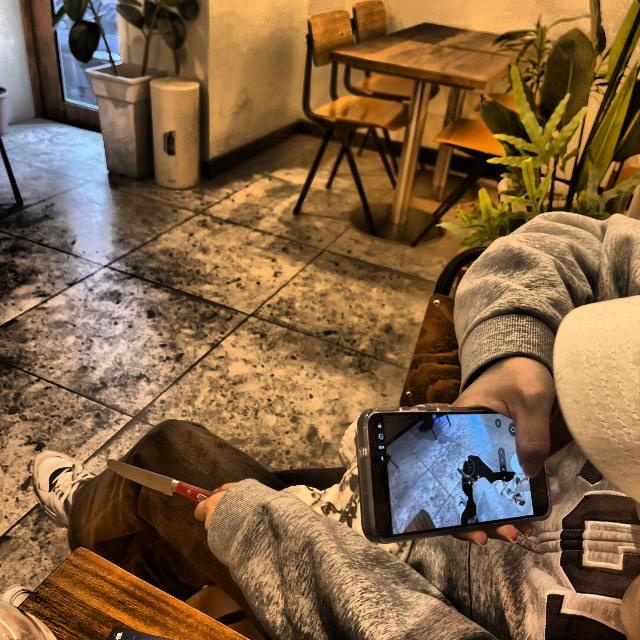knife: (100, 454, 216, 513)
